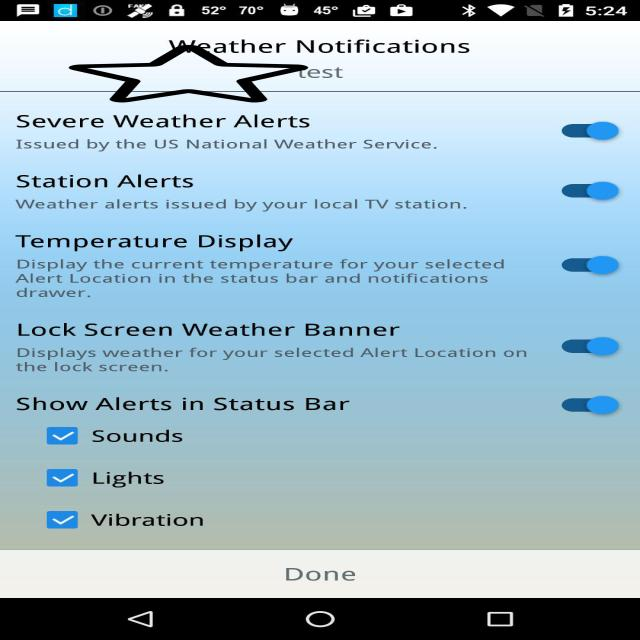forced continuity: (69, 44, 308, 104)
